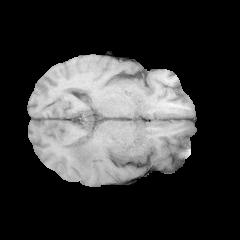glioma: (68, 138, 99, 174)
